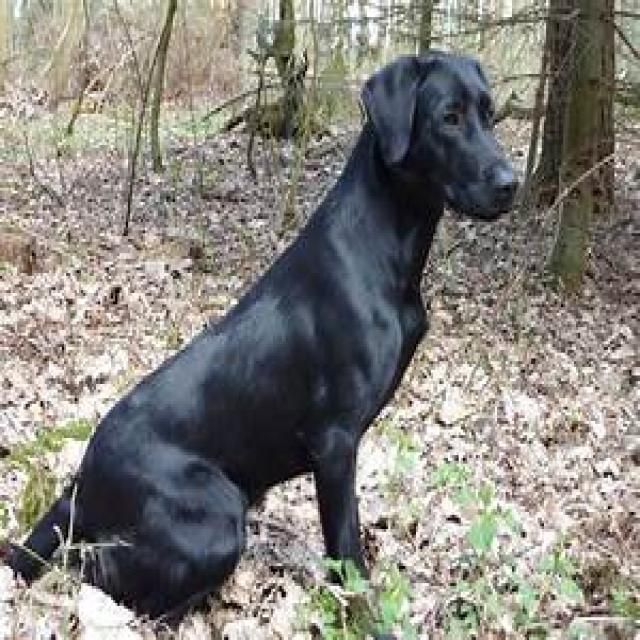dog: (9, 51, 521, 623)
